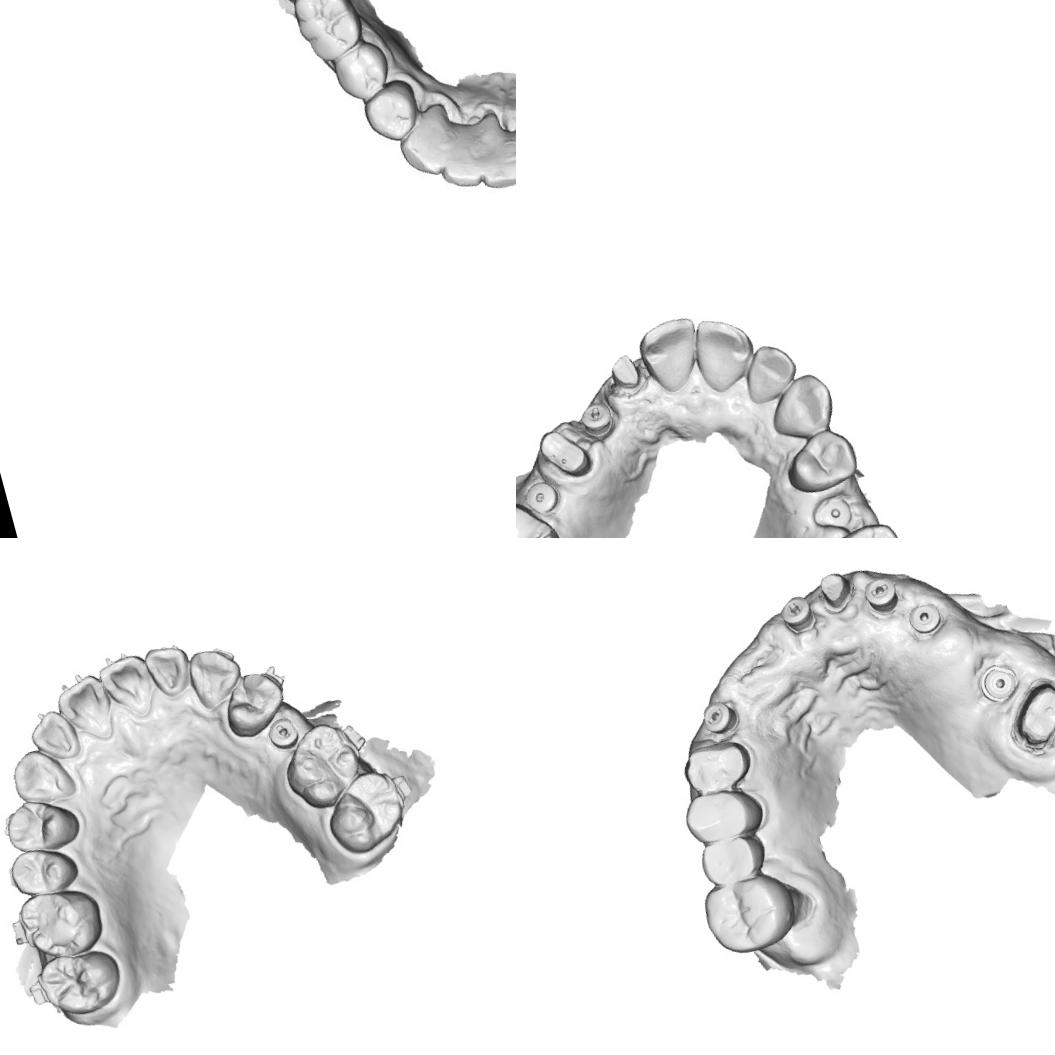canine: (759, 364, 842, 446), (674, 726, 758, 802), (390, 105, 464, 184), (5, 740, 80, 813), (180, 641, 248, 716)
crown: (1001, 673, 1055, 757), (531, 420, 596, 486), (602, 346, 646, 397), (813, 568, 859, 616)
implant: (810, 488, 858, 532), (519, 476, 563, 520), (979, 662, 1019, 702), (906, 596, 946, 634)
implant_minus: (772, 588, 822, 638), (856, 572, 906, 620), (696, 692, 742, 738), (575, 396, 619, 444), (262, 712, 303, 757)
incisor: (630, 312, 710, 400), (684, 308, 762, 396), (47, 664, 120, 751), (93, 648, 160, 725), (736, 336, 804, 407), (24, 703, 84, 768), (140, 638, 199, 704), (431, 134, 492, 194), (471, 142, 516, 196)
molar: (696, 865, 808, 963), (272, 715, 370, 818), (315, 762, 414, 860), (12, 881, 110, 966), (30, 941, 128, 1024), (287, 0, 371, 68), (804, 515, 915, 538), (516, 490, 569, 538)
premolar: (778, 422, 864, 498), (676, 778, 769, 848), (215, 664, 293, 744), (0, 788, 84, 861), (356, 74, 426, 150), (3, 837, 83, 902), (692, 826, 773, 888), (327, 37, 398, 106)
